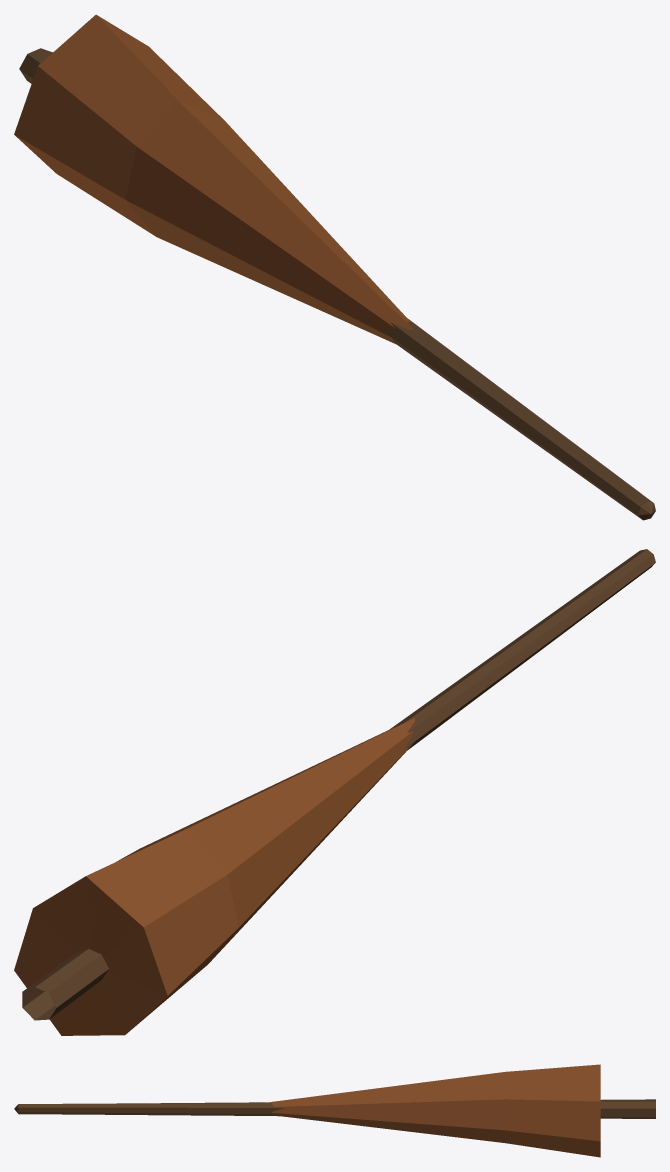
Rendered from dying_1.glb.
3 renders of one model, top to bottom at view 1: azimuth 30°, elevation 25°; view 2: azimuth 150°, elevation 25°; view 3: azimuth 270°, elevation 25°, orthographic. The views are drawn at different scales.
Parts seen in each view (by area): view 1: tree_08_dying_1; view 2: tree_08_dying_1; view 3: tree_08_dying_1.
Boxes of the visible parts, x1,y1,x2,y2 form: tree_08_dying_1: (14, 14, 655, 520); tree_08_dying_1: (14, 549, 655, 1035); tree_08_dying_1: (14, 1064, 655, 1157).
Size of the model in its own units: 6.32 by 6.51 by 43.65.
